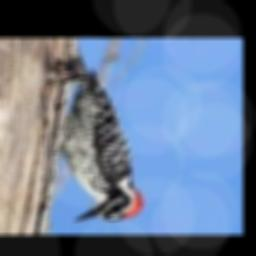Woodpecker: (59, 60, 144, 222)
